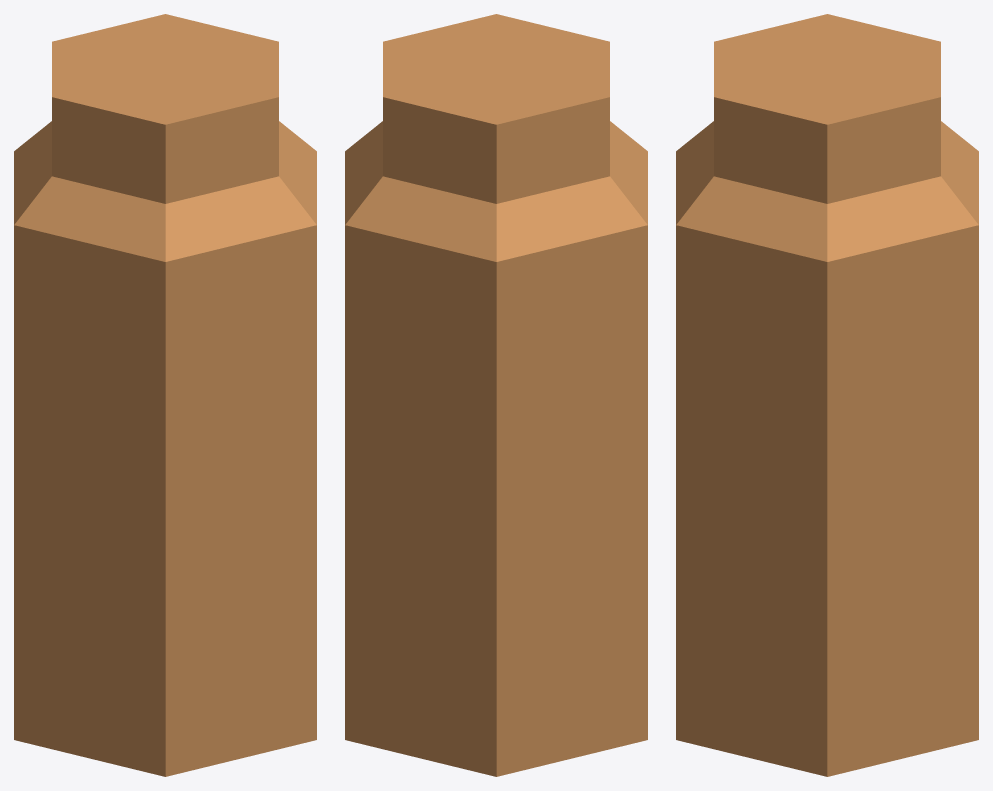
The model's file is 44_bottle.glb.
3 views of the same model, side by side, from view 1: azimuth 30°, elevation 25°; view 2: azimuth 150°, elevation 25°; view 3: azimuth 270°, elevation 25° (orthographic).
Visible parts, largest first — view 1: items/44_bottle; view 2: items/44_bottle; view 3: items/44_bottle.
Boxes of the visible parts, <box> form: items/44_bottle: <box>14,14,316,776</box>; items/44_bottle: <box>345,14,647,776</box>; items/44_bottle: <box>676,14,978,776</box>.
Size of the model in its own units: 0.25 by 0.5 by 0.2165.
1 material, 1 textured.
